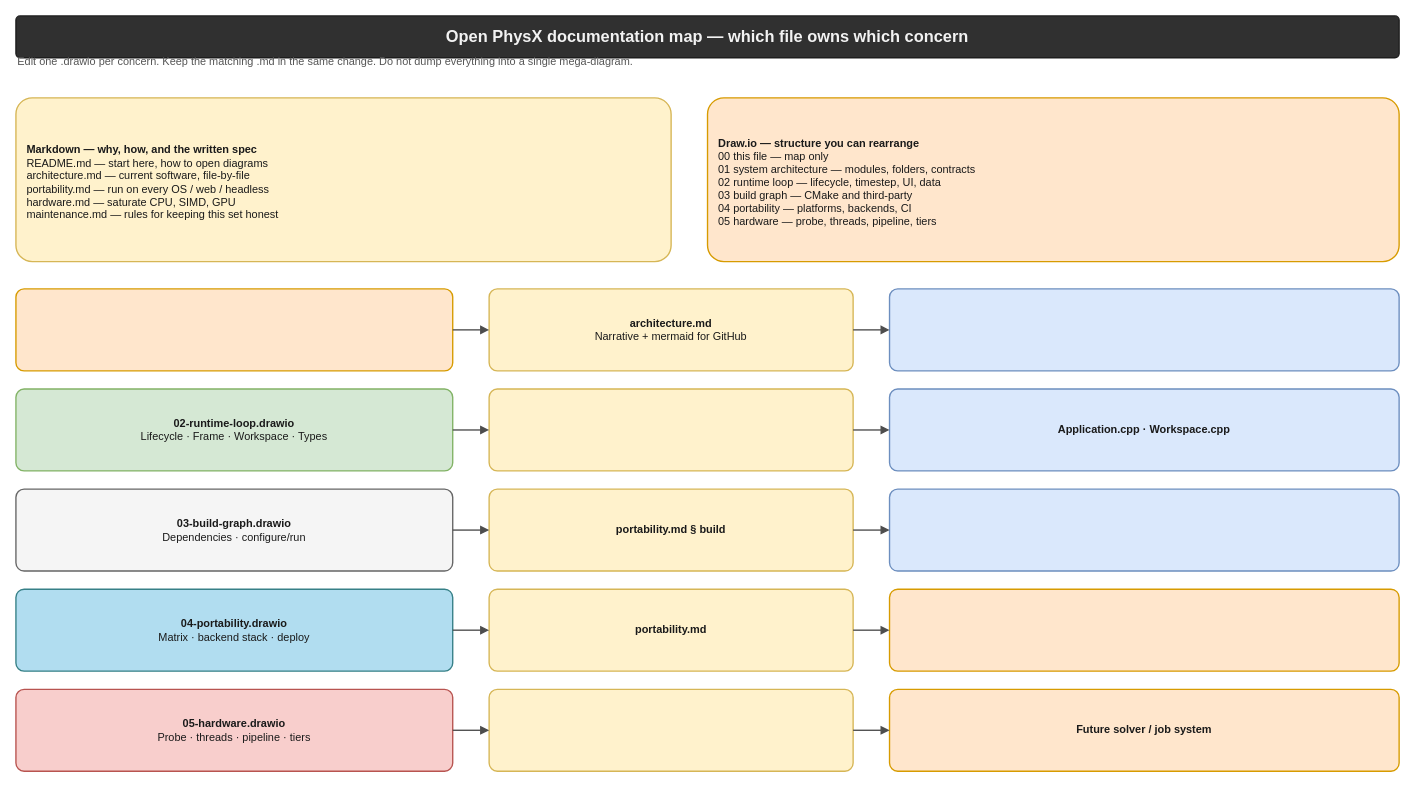
The diagram is 1416 pixels wide and 788 high, and some of its shapes have lost their labels. Here are the shapes that lost their labels. From the top down, the centre of each, then its label:
At point (234, 329): "01-system-architecture.drawio Overview · Source layout · Contracts".
At point (1143, 329): "src/** Update diagrams when signatures move".
At point (670, 429): "architecture.md § loop".
At point (1143, 529): "CMakeLists.txt".
At point (1143, 629): "New IPlatform / ICompute later".
At point (670, 729): "hardware.md".
